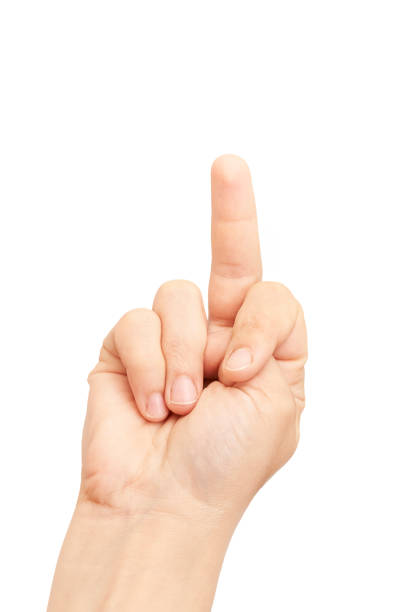insulting_gesture: (80, 150, 305, 524)
